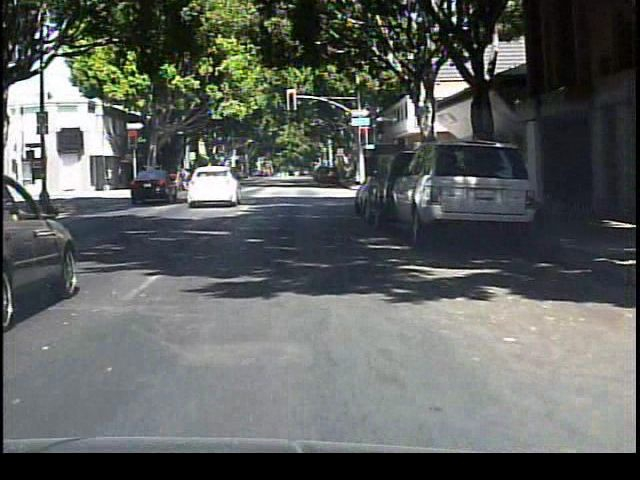person: (173, 162, 198, 201)
